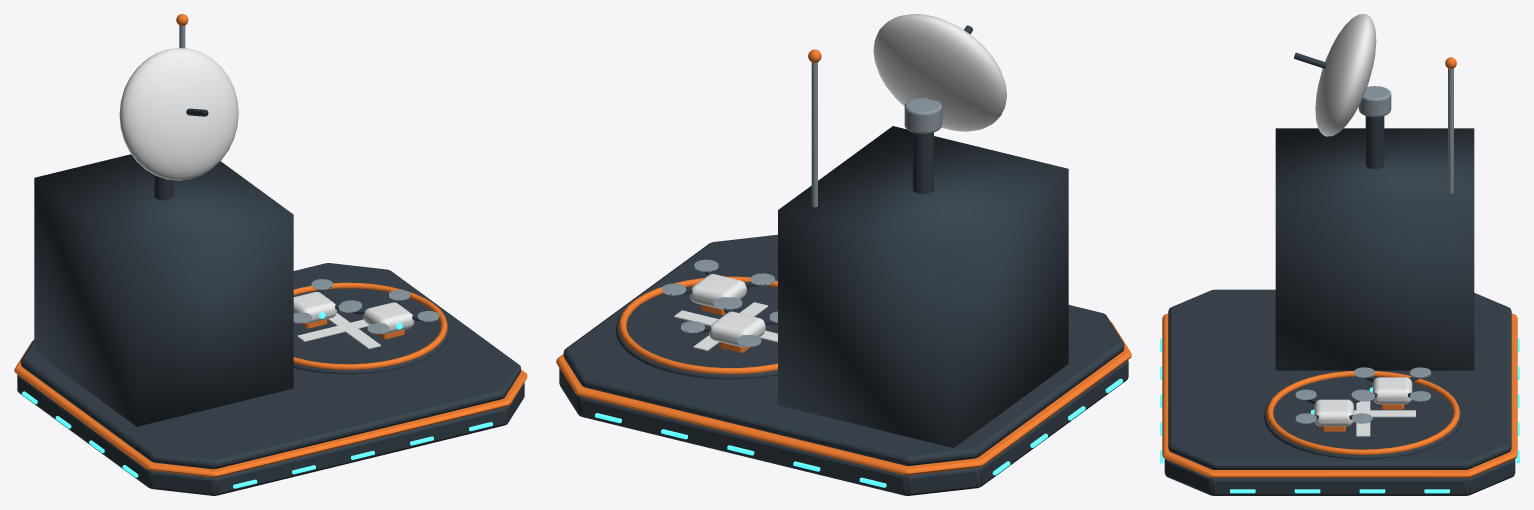
The model's file is hub.glb.
3 views of the same model, side by side, from view 1: azimuth 30°, elevation 25°; view 2: azimuth 150°, elevation 25°; view 3: azimuth 270°, elevation 25° (orthographic). The views are drawn at different scales.
Visible parts, largest first — view 1: COL_house, deck, radar dish, plinth, pad, plinth lip, pad ring, drone body 1, drone body 0, pad mark; view 2: COL_house, deck, plinth, radar dish, pad, plinth lip, pad ring, radar post, drone body 0, drone body 1, radar hub, antenna; view 3: COL_house, deck, pad, plinth, radar dish, plinth lip, pad ring, radar post, drone body 1, drone body 0, radar hub, antenna (+1 smaller).
Boxes of the visible parts, x1,y1,x2,y2 form: COL_house: (34,154,293,426); deck: (21,263,520,469); radar dish: (119,48,238,180); plinth: (17,374,524,495); pad: (293,288,450,374); plinth lip: (14,341,527,477); pad ring: (293,282,447,369); drone body 1: (363,302,414,334); drone body 0: (293,292,337,323); pad mark: (297,319,368,341); COL_house: (778,126,1068,447); deck: (563,234,1124,465); plinth: (559,360,1128,495); radar dish: (873,14,1006,131); pad: (616,285,777,379); plinth lip: (556,321,1131,475); pad ring: (618,276,777,374); radar post: (912,132,933,193); drone body 0: (709,311,765,347); drone body 1: (690,274,746,309); radar hub: (904,97,942,133); antenna: (811,62,817,207); COL_house: (1275,128,1474,370); deck: (1168,289,1511,469); pad: (1264,376,1462,459); plinth: (1164,459,1515,495); radar dish: (1315,14,1376,136); plinth lip: (1162,313,1517,477); pad ring: (1266,371,1460,455); radar post: (1365,116,1384,169); drone body 1: (1314,399,1353,426); drone body 0: (1372,377,1412,404); radar hub: (1358,86,1391,117); antenna: (1448,68,1453,193).
Bounding box in the file's own units: 3.68 × 3.27 × 3.08.
